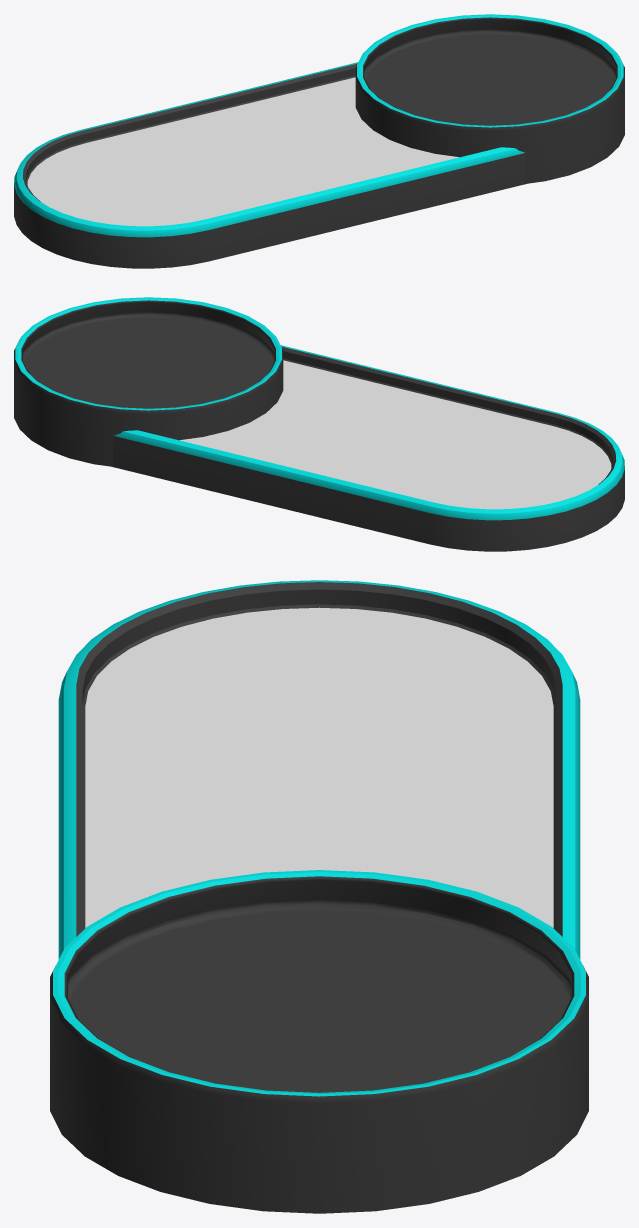
The model's file is SignInButton.fbx.
The picture shows the model from 3 angles, top to bottom: view 1: azimuth 30°, elevation 25°; view 2: azimuth 150°, elevation 25°; view 3: azimuth 270°, elevation 25°; orthographic projection. The views are drawn at different scales.
Parts seen in each view (by area): view 1: SignInButtons; view 2: SignInButtons; view 3: SignInButtons.
Boxes of the visible parts, box(x1,y1,x2,y2) form: SignInButtons: box(14, 14, 624, 268); SignInButtons: box(14, 297, 624, 551); SignInButtons: box(50, 580, 588, 1213).
Size of the model in its own units: 1.12 by 0.1088 by 0.4549.
